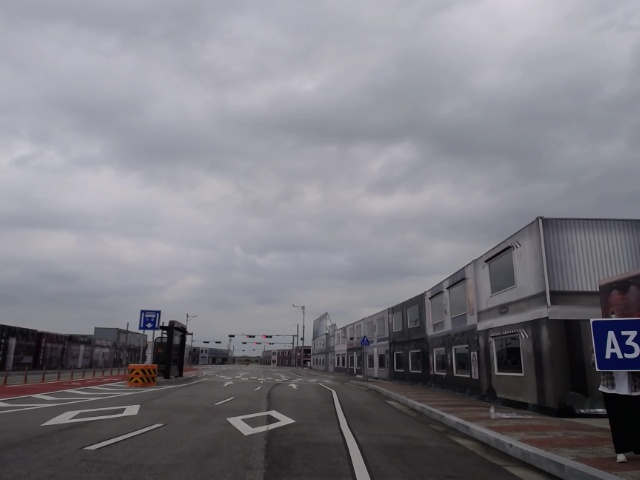delivery_a3: (590, 318, 639, 371)
